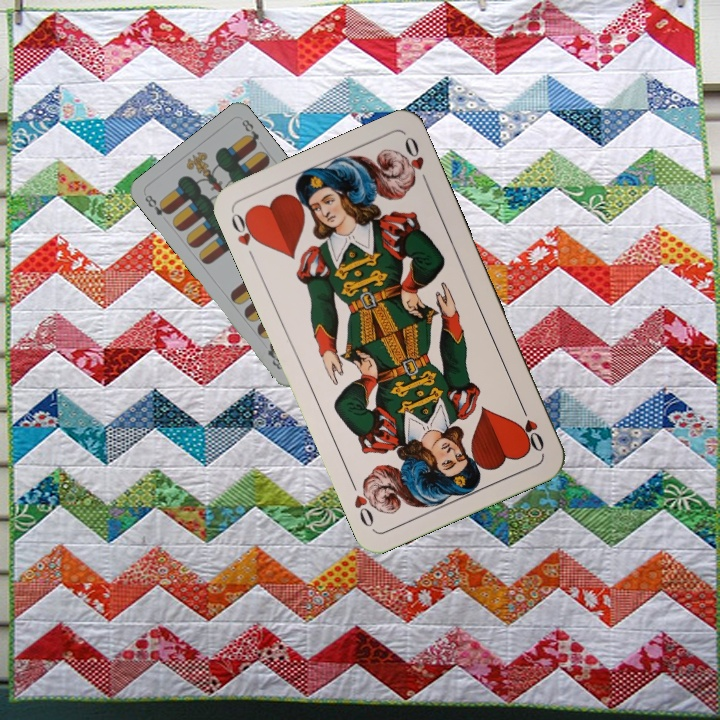E8: (140, 191, 173, 218)
HO: (515, 399, 547, 455), (226, 207, 264, 249)
